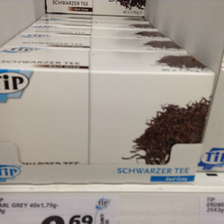tea: (1, 45, 215, 167)
